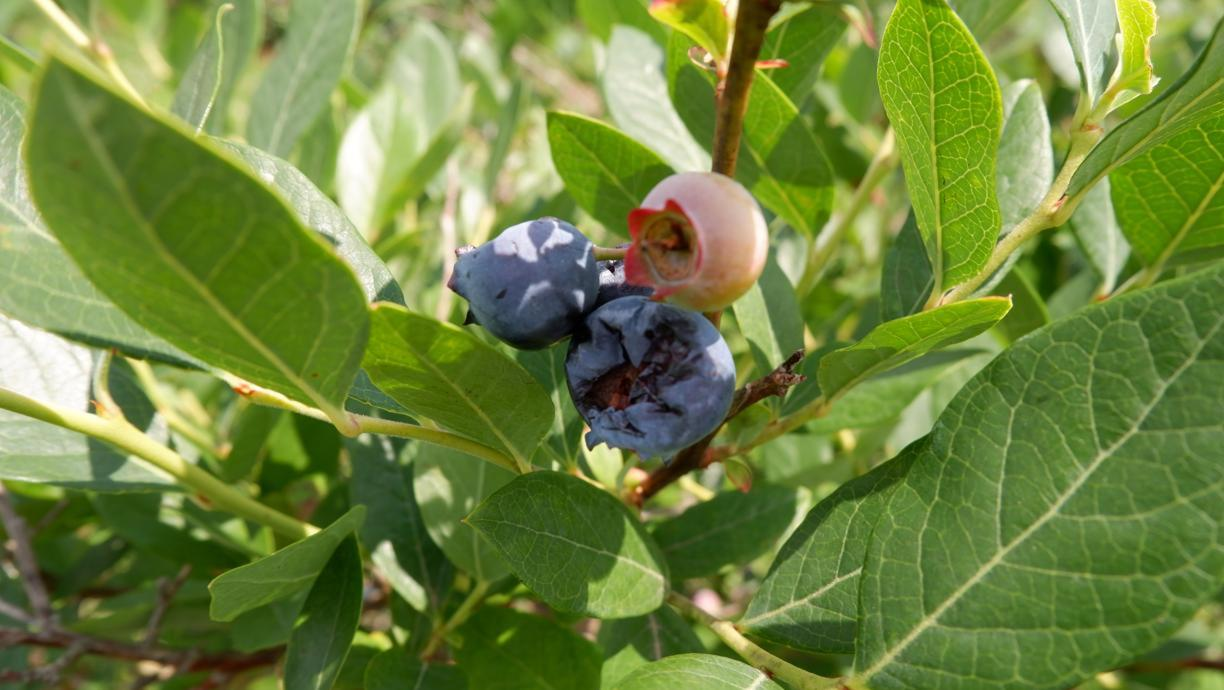Immature: (624, 171, 770, 311)
Mature: (564, 297, 738, 469), (447, 216, 600, 351), (587, 243, 652, 317)
